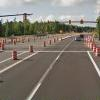Traffic light: (59, 17, 92, 34)
